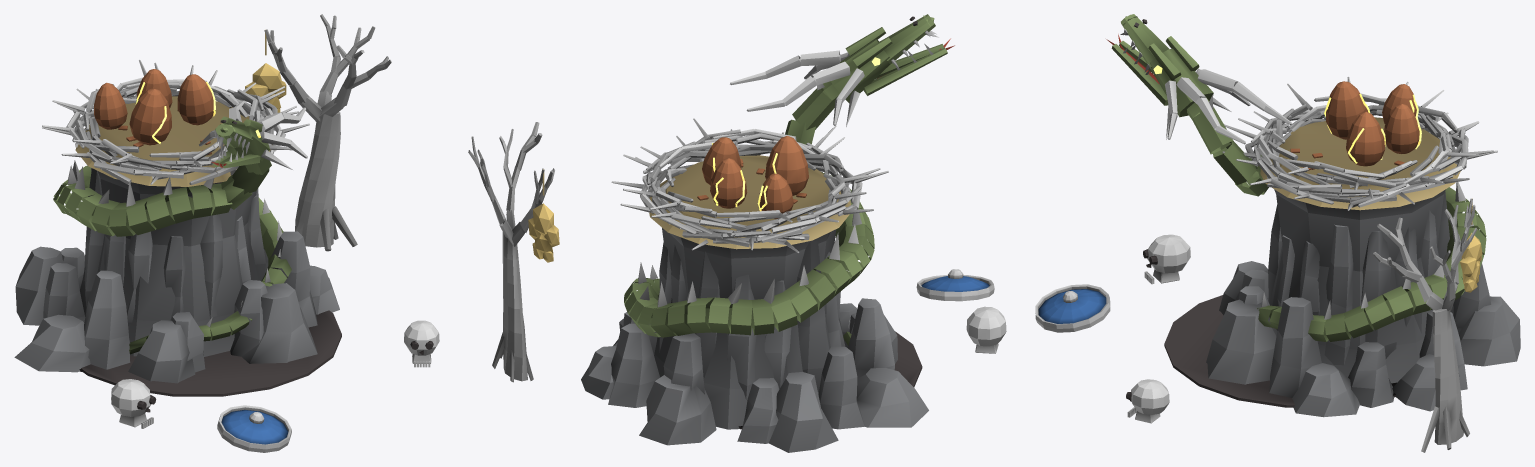
File: drakon-nest-l2.glb
3 views of the same model, side by side, from view 1: azimuth 30°, elevation 25°; view 2: azimuth 150°, elevation 25°; view 3: azimuth 270°, elevation 25° (orthographic). The views are drawn at different scales.
Parts seen in each view (by area): view 1: drakon-nest-l2; view 2: drakon-nest-l2; view 3: drakon-nest-l2.
Part boxes in pixels (x1=…): drakon-nest-l2: x1=14, y1=14, x2=439, y2=452; drakon-nest-l2: x1=468, y1=14, x2=1006, y2=452; drakon-nest-l2: x1=1035, y1=14, x2=1520, y2=452.
Bounding box in the file's own units: 1.32 × 0.9486 × 1.37.
